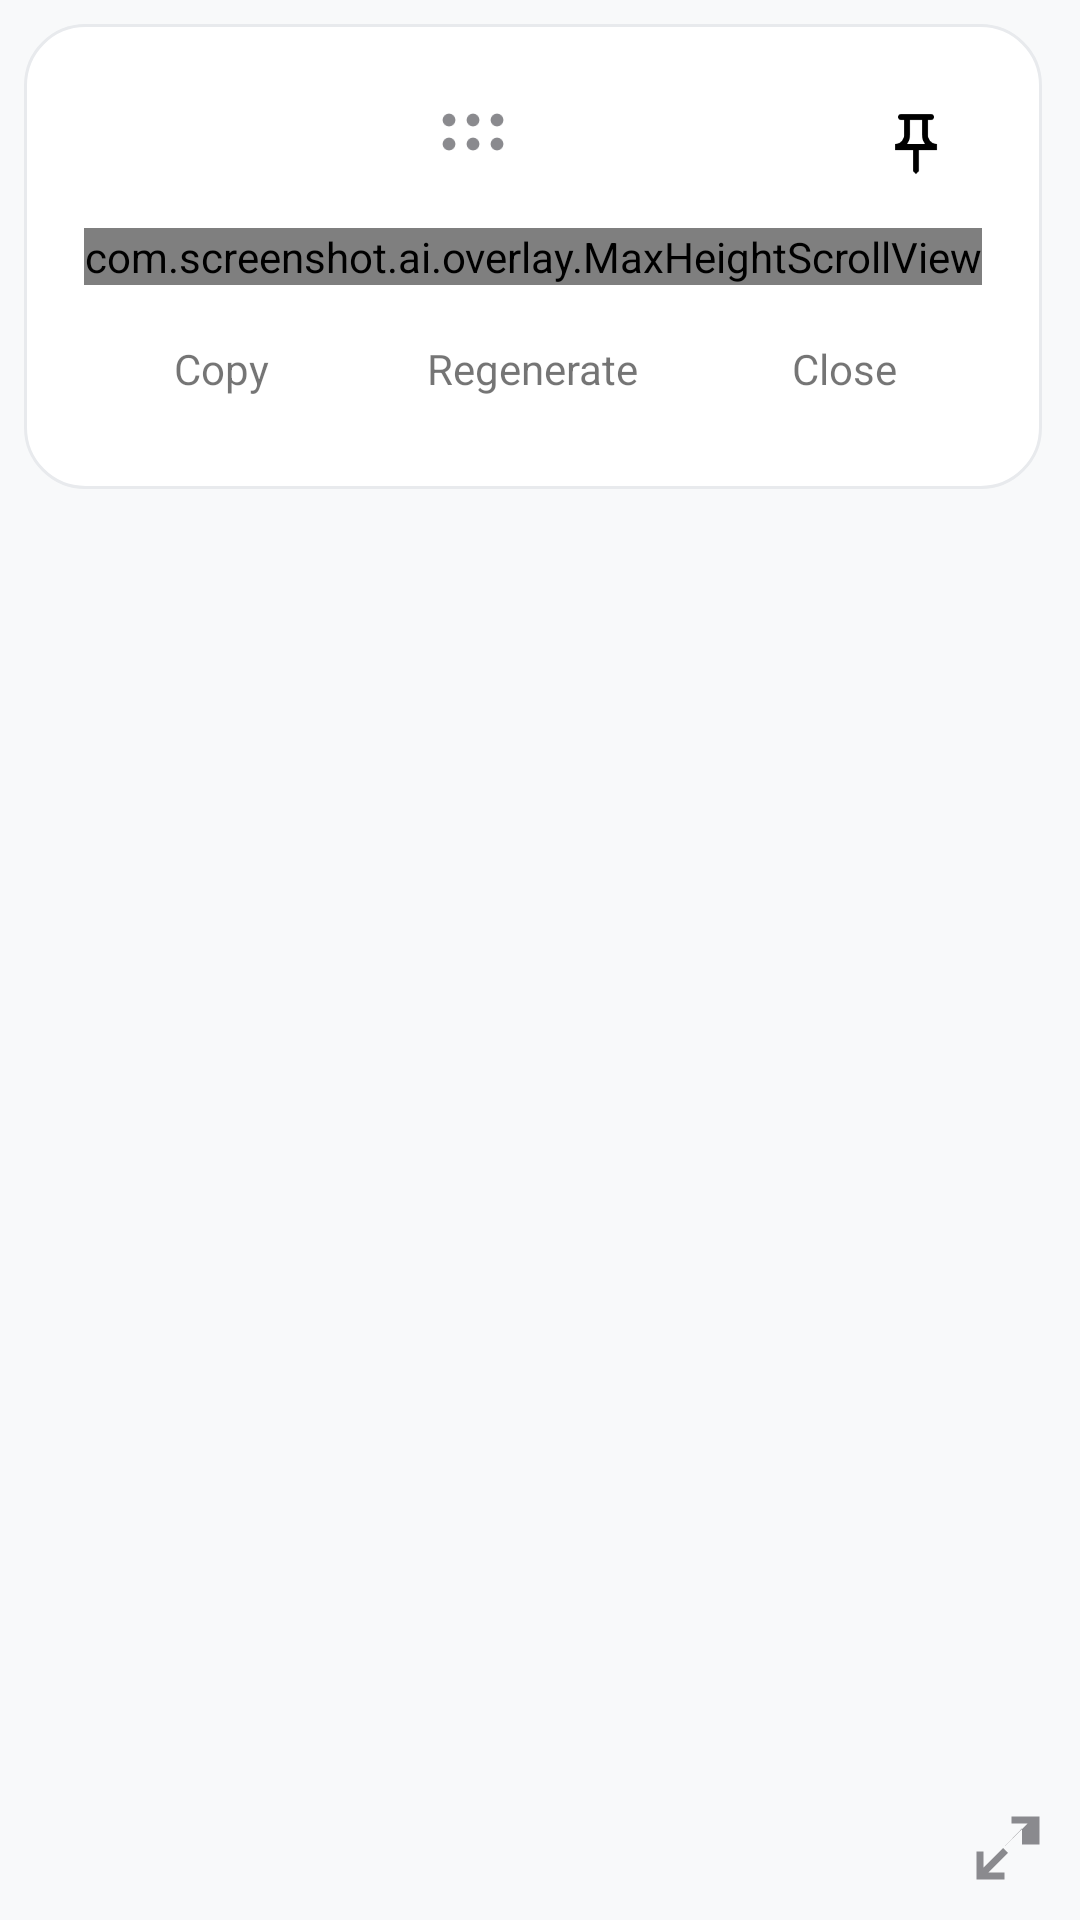

Icon bounding boxes for this 1080*1920 phone screenshot, format (x1, y1, x2, y2):
Drag window: (442, 113, 504, 151)
Resize window: (976, 1816, 1040, 1880)
